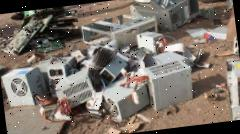electronic: (144, 59, 206, 122), (93, 67, 152, 127), (1, 61, 50, 118), (44, 49, 84, 112), (95, 50, 141, 97), (54, 72, 104, 114), (136, 24, 176, 71)
